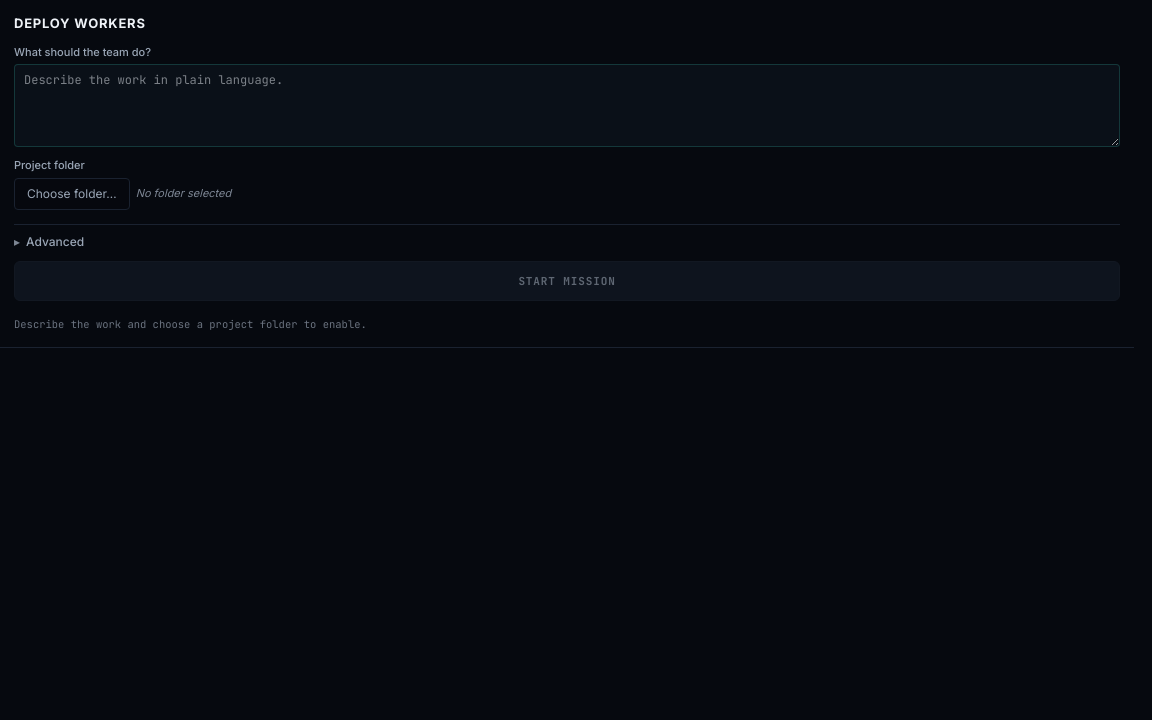
Test: DeployPanel (unified team-launch surface) › Advanced body is bounded so the objective stays visible
This screenshot has width=1152, height=720.
Click the heading "Advanced" at (55, 241), box [26,234,84,249]
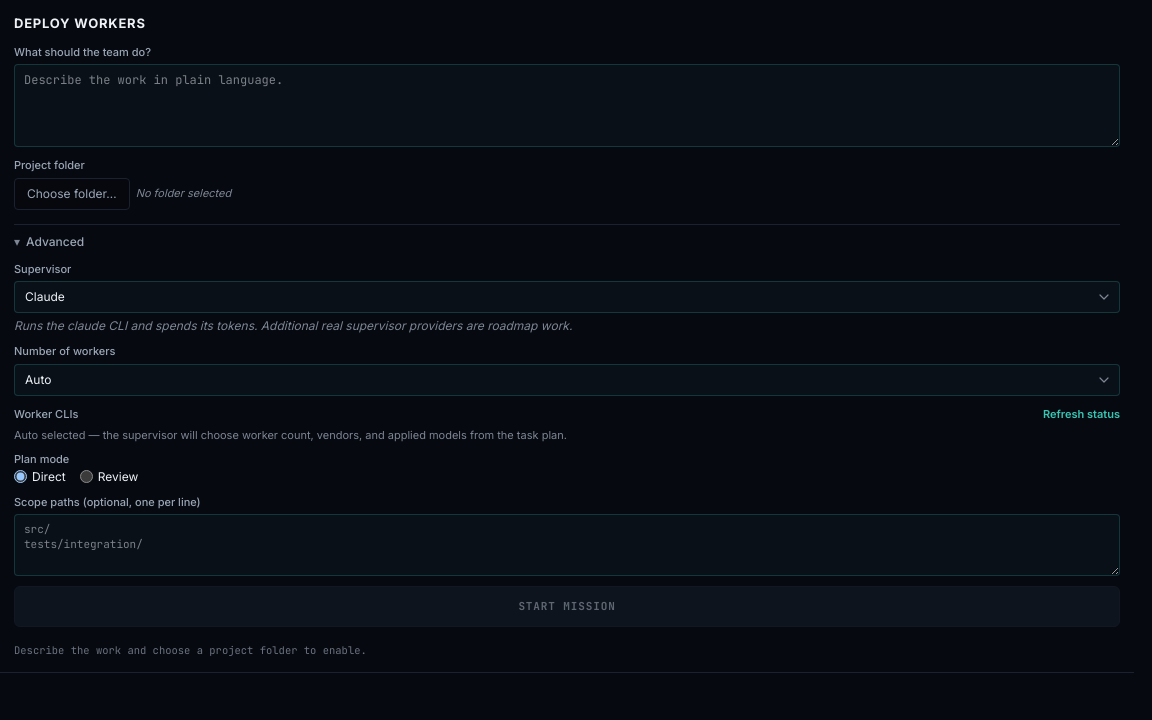
Result: the element with class "deploy-advanced-body" is shown at [14,261,1120,576]
